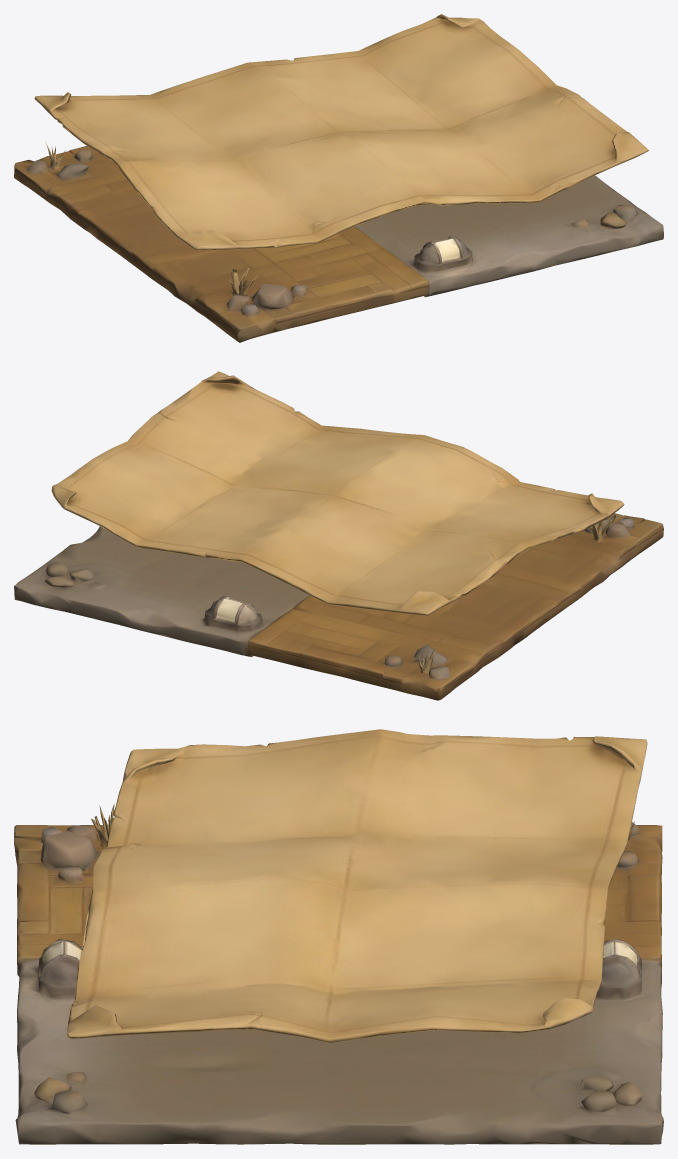
The model's file is item_map.glb.
3 renders of one model, top to bottom at view 1: azimuth 30°, elevation 25°; view 2: azimuth 150°, elevation 25°; view 3: azimuth 270°, elevation 25°, orthographic. The views are drawn at different scales.
Visible parts, largest first — view 1: tripo_node_8c6ac302-56a3-4e08-a14a-10d5a7e48a22; view 2: tripo_node_8c6ac302-56a3-4e08-a14a-10d5a7e48a22; view 3: tripo_node_8c6ac302-56a3-4e08-a14a-10d5a7e48a22.
Boxes of the visible parts, <box> form: tripo_node_8c6ac302-56a3-4e08-a14a-10d5a7e48a22: <box>14,14,663,342</box>; tripo_node_8c6ac302-56a3-4e08-a14a-10d5a7e48a22: <box>14,371,663,700</box>; tripo_node_8c6ac302-56a3-4e08-a14a-10d5a7e48a22: <box>14,729,663,1144</box>.
Bounding box in the file's own units: 1 × 0.2007 × 0.9061.
1 material, 1 textured.
